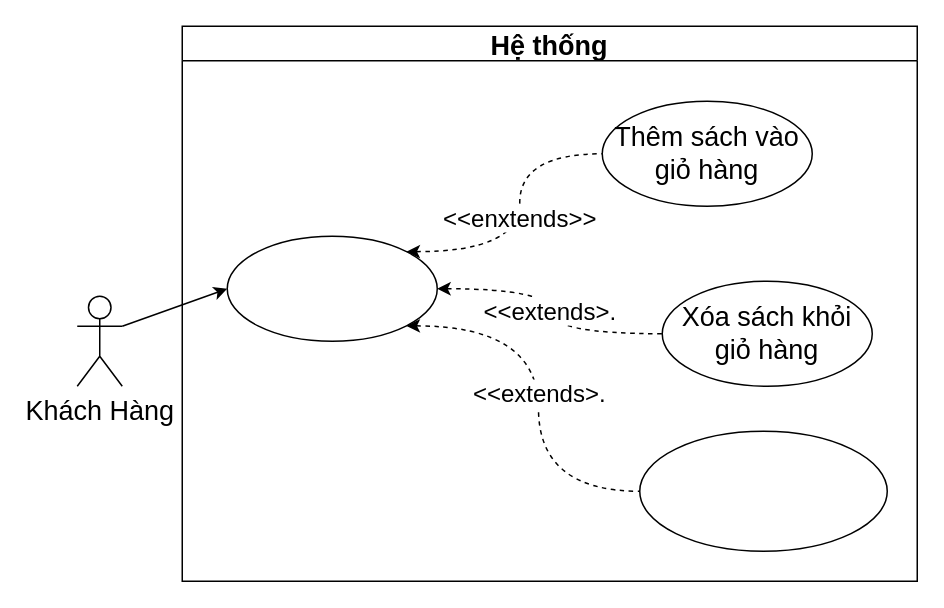
Some shapes in this 944 by 608 pixel diagram are drawn without their labels. Each missing label, with the centre of its shape:
"Thay đối số lượng sản phẩm" belongs at (x=762, y=490).
"Xem giỏ hàng" belongs at (x=331, y=288).
